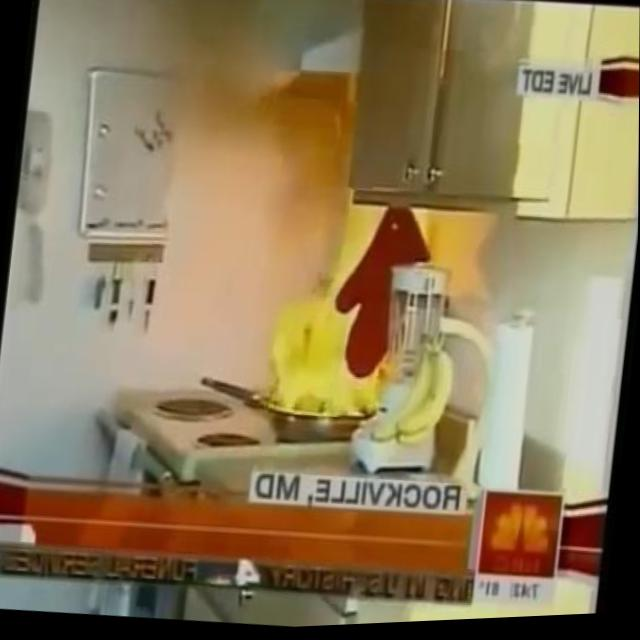fire: (267, 194, 417, 429)
